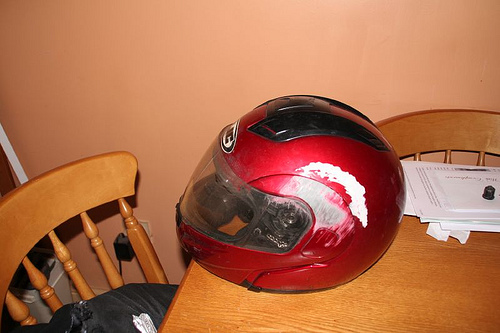helmet: (193, 97, 400, 291)
